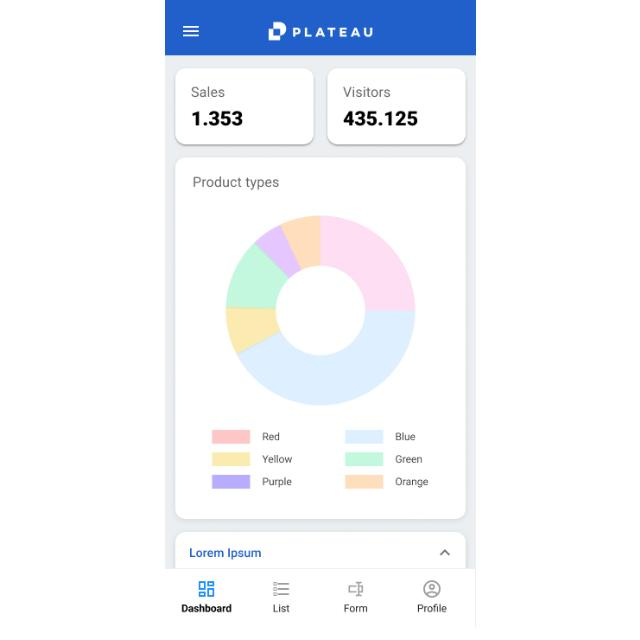Doughnut: (189, 172, 439, 496)
QLabel: (342, 108, 420, 128), (187, 108, 249, 130), (186, 546, 264, 560), (340, 81, 392, 99), (179, 602, 233, 618), (187, 82, 227, 100), (414, 602, 448, 614), (341, 602, 369, 614), (268, 602, 292, 614)
VAppBar: (164, 0, 476, 58)
VBottomNavigation: (164, 570, 474, 640)
VCard: (172, 156, 468, 522), (174, 68, 314, 146), (326, 67, 466, 145)
VExpansionPanel: (177, 534, 463, 566)
VIcon: (179, 20, 203, 40), (270, 580, 294, 600), (342, 579, 368, 597), (196, 578, 216, 598), (422, 578, 441, 598)
VImg: (264, 19, 376, 45)
